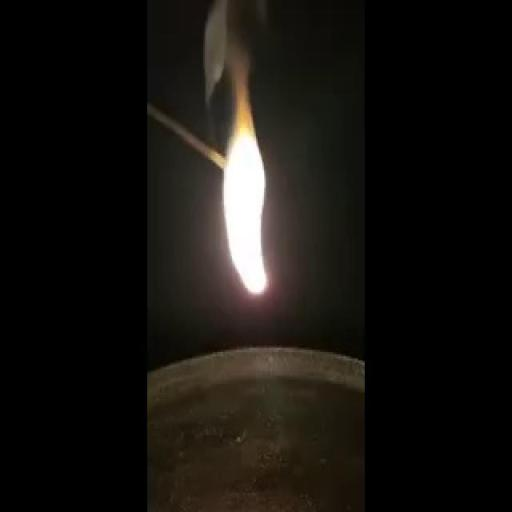smoke: (212, 54, 274, 300)
